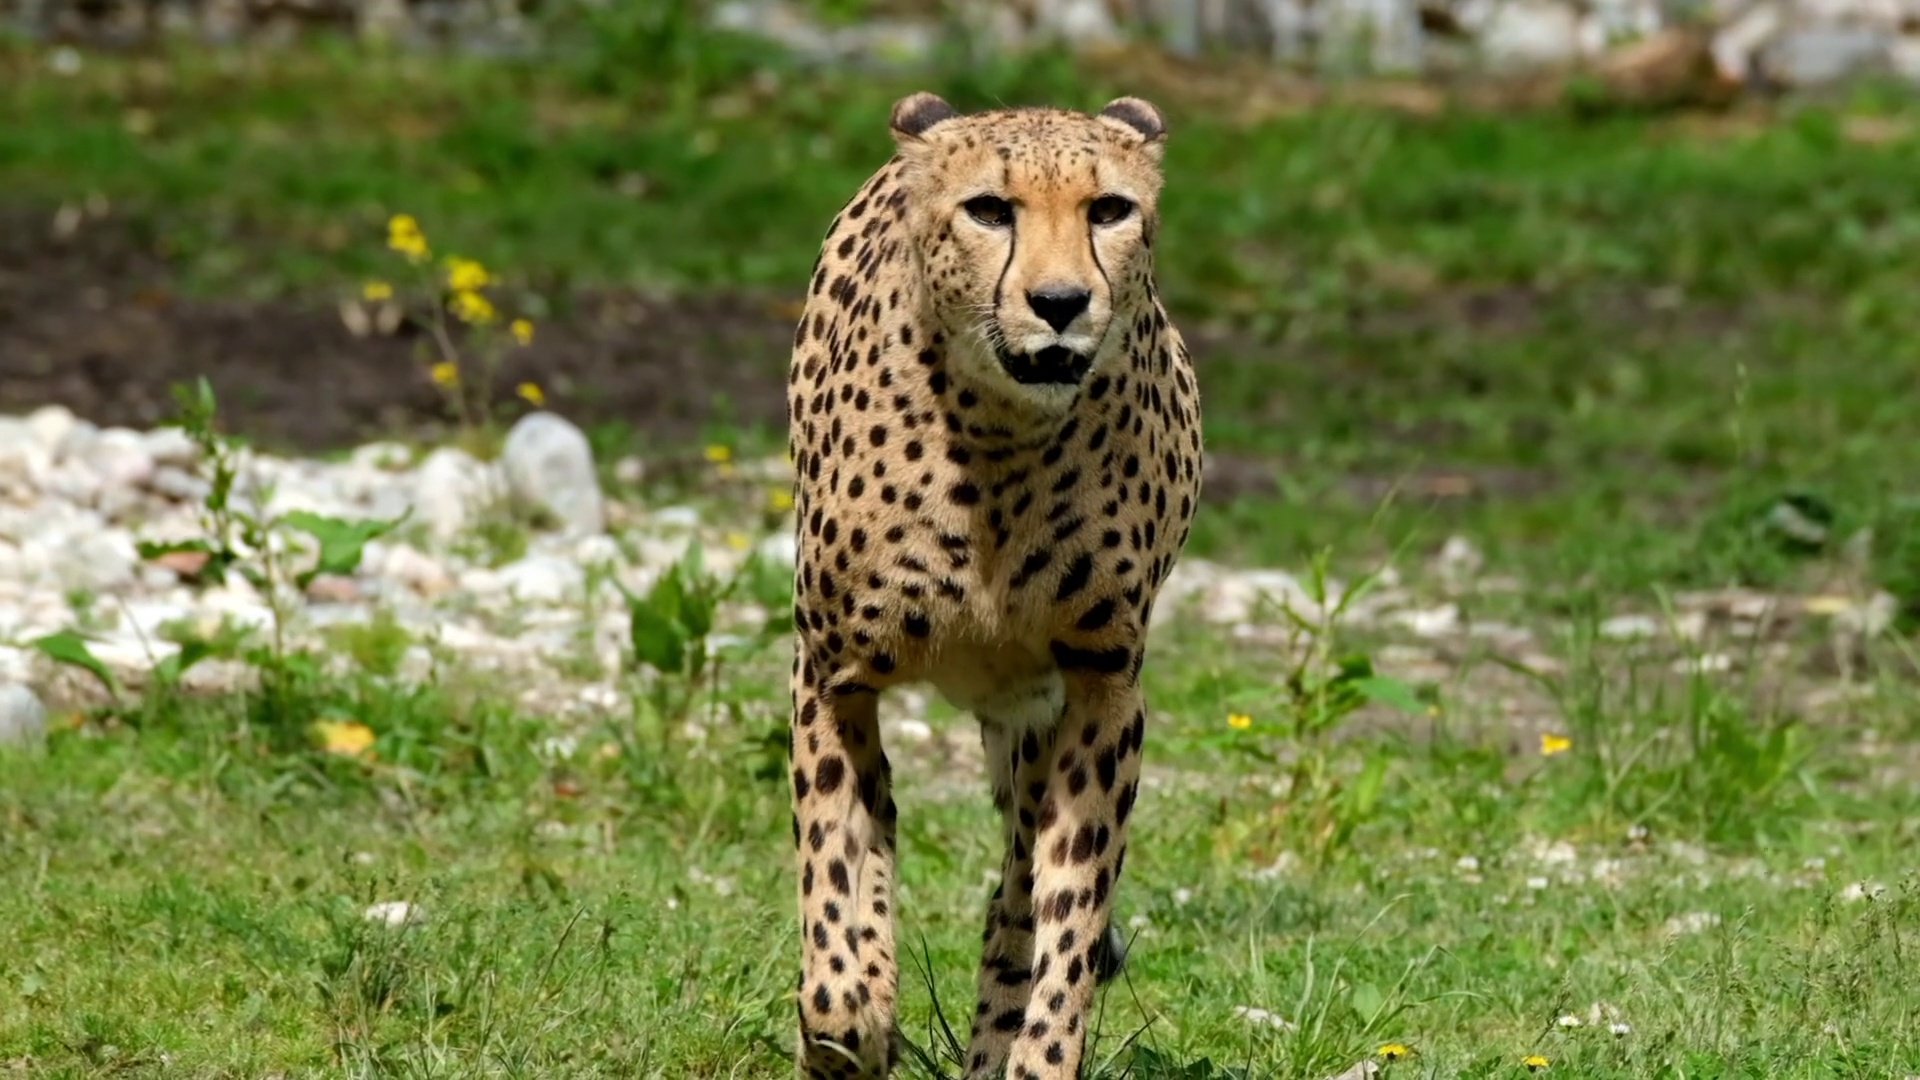Cheetah: (773, 86, 1207, 1080)
